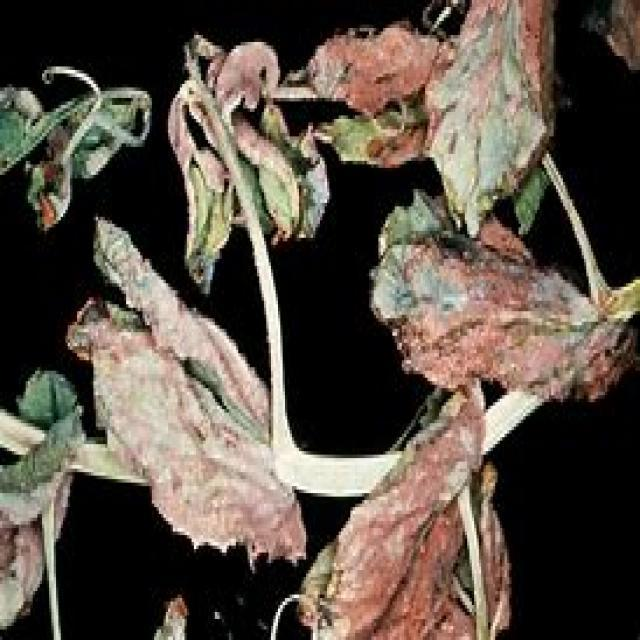Leaf_Mold: (150, 14, 592, 250), (61, 230, 322, 594), (342, 210, 640, 510), (220, 381, 560, 626), (0, 356, 83, 640)
